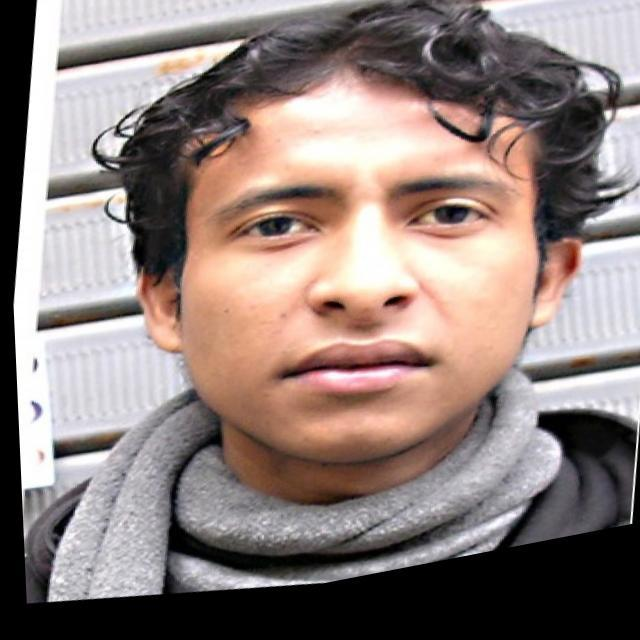Nonhelmet: (92, 0, 634, 469)
